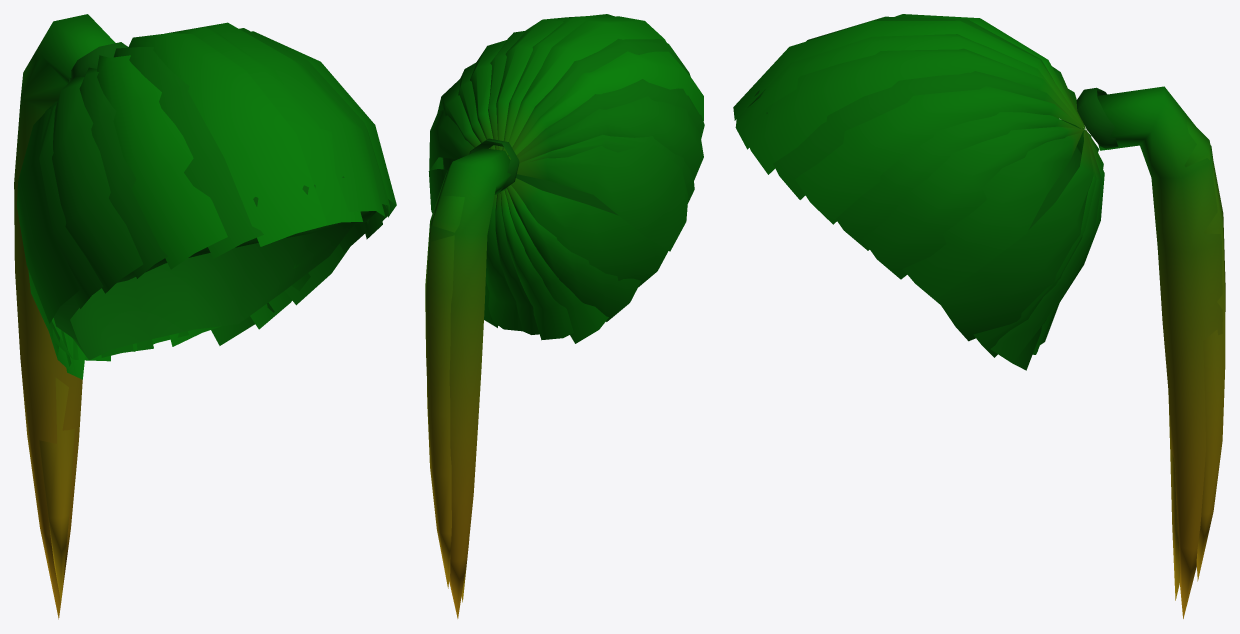
File: ponytail.glb
3 renders of one model, left to right at view 1: azimuth 30°, elevation 25°; view 2: azimuth 150°, elevation 25°; view 3: azimuth 270°, elevation 25°, orthographic. The views are drawn at different scales.
Parts seen in each view (by area): view 1: hair_ponytail; view 2: hair_ponytail; view 3: hair_ponytail.
Part boxes in pixels (x1,y1,x2,y2): hair_ponytail: (14,14,396,619); hair_ponytail: (425,14,704,618); hair_ponytail: (733,14,1225,618).
Bounding box in the file's own units: 0.1795 × 0.3706 × 0.2795.
